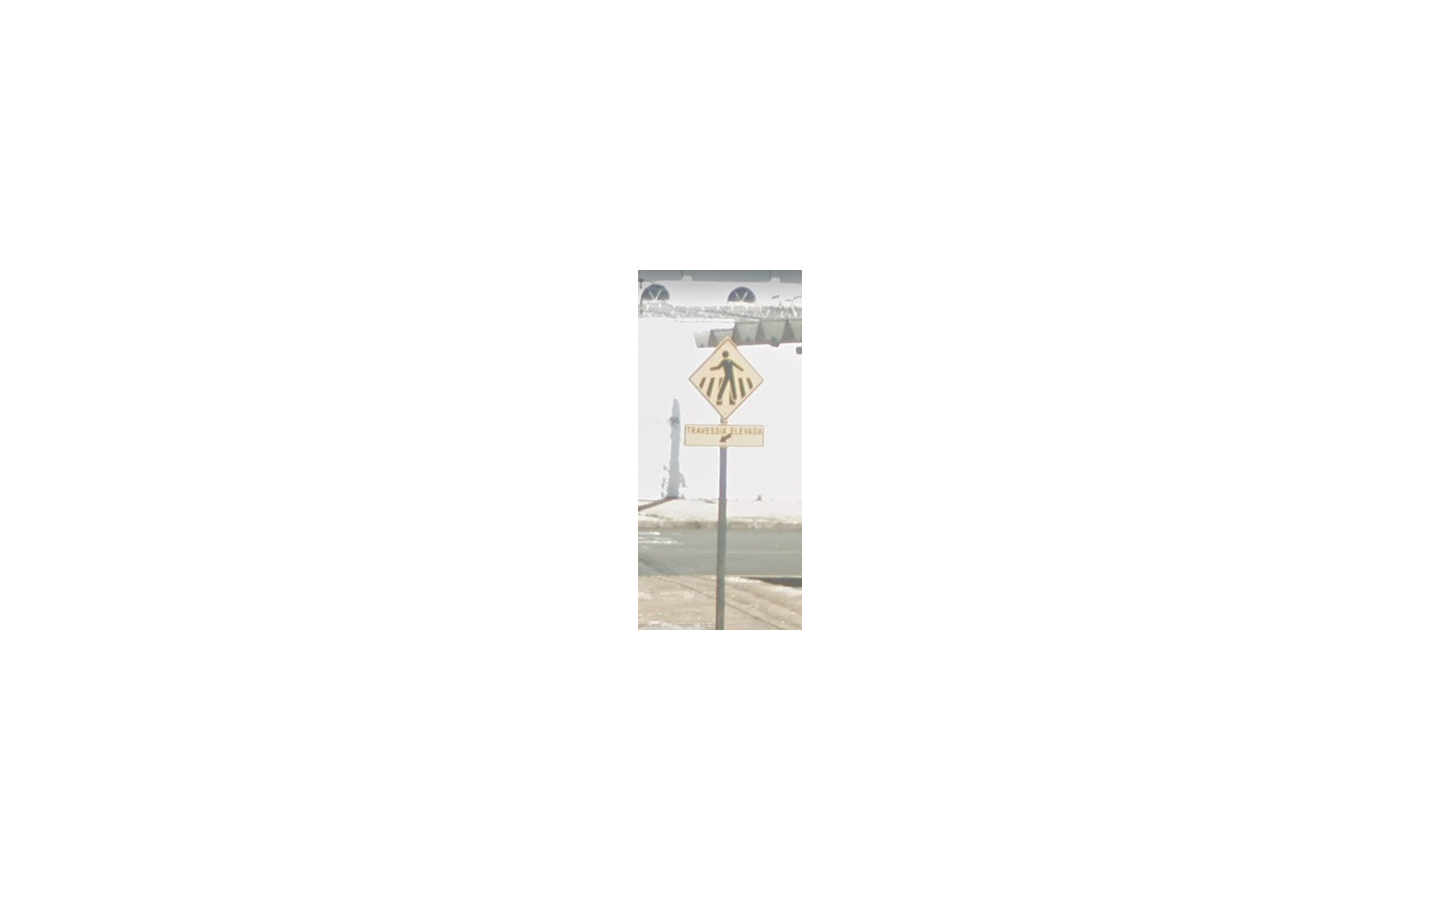telev: (684, 336, 765, 448)
